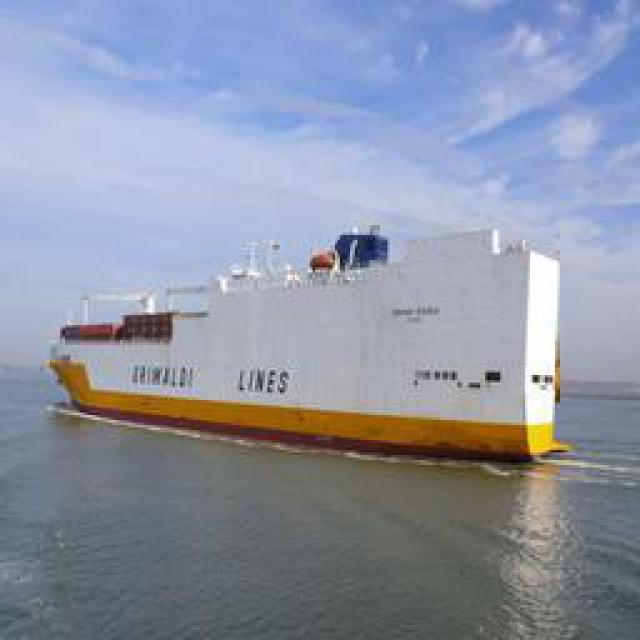Ship: (50, 216, 573, 456)
